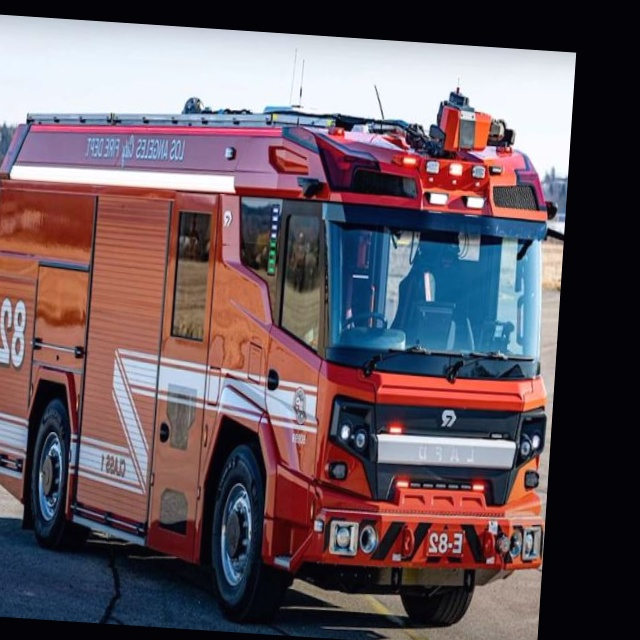Fire-truck: (0, 52, 574, 640)
